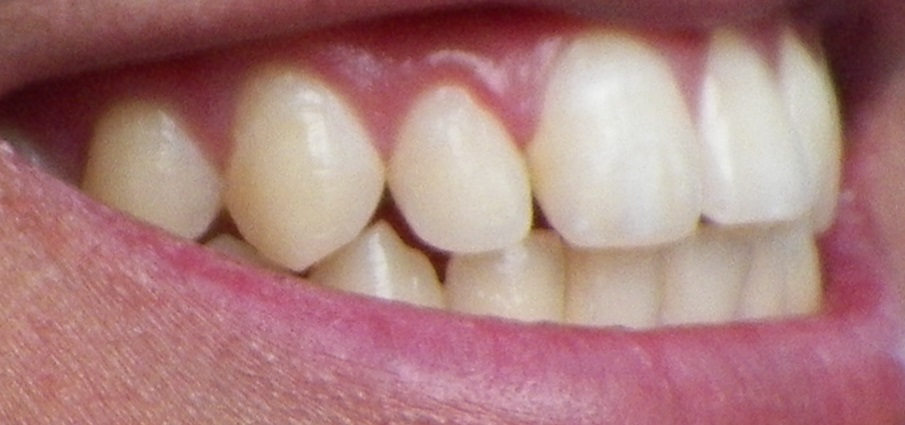boca: (31, 37, 864, 311)
